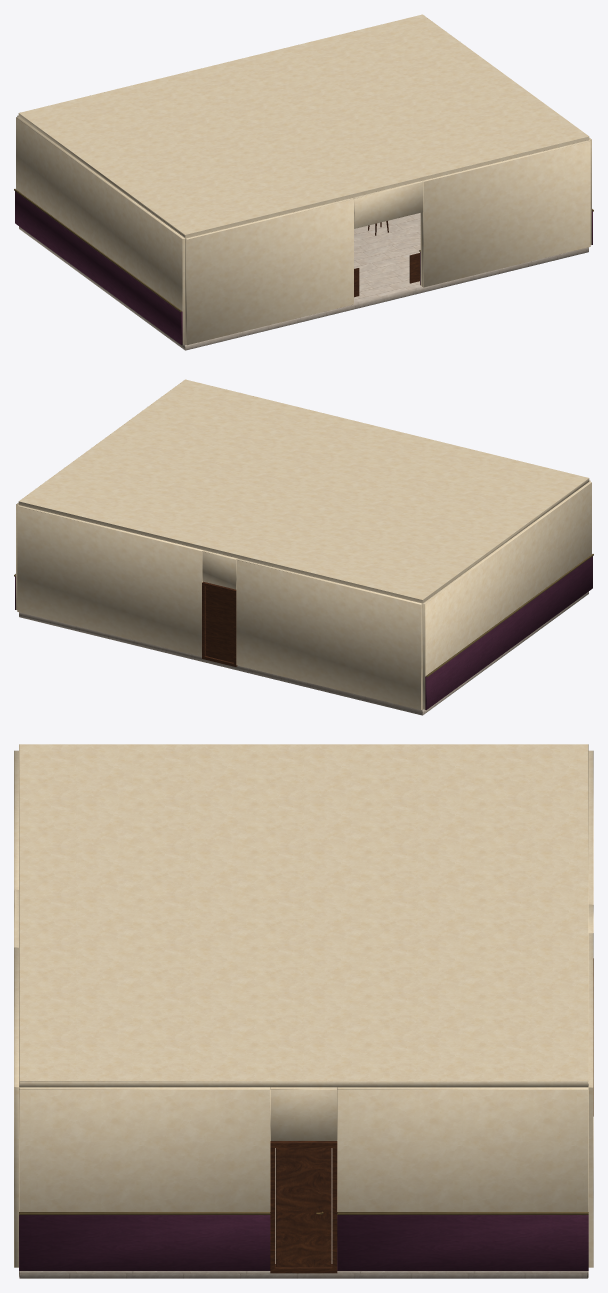
The model's file is explore3d__dream_lobby.glb.
The picture shows the model from 3 angles, top to bottom: view 1: azimuth 30°, elevation 25°; view 2: azimuth 150°, elevation 25°; view 3: azimuth 270°, elevation 25°; orthographic projection. The views are drawn at different scales.
Visible parts, largest first — view 1: Rebuilt_dream_lobby; view 2: Rebuilt_dream_lobby; view 3: Rebuilt_dream_lobby.
Boxes of the visible parts, x1,y1,x2,y2 form: Rebuilt_dream_lobby: (14, 14, 593, 350); Rebuilt_dream_lobby: (14, 379, 593, 715); Rebuilt_dream_lobby: (14, 744, 593, 1278).
Size of the model in its own units: 14.32 by 3.84 by 10.19.
Materials: 16 (14 with a texture image).
